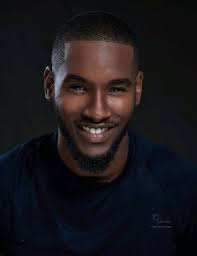person: (41, 10, 144, 175)
